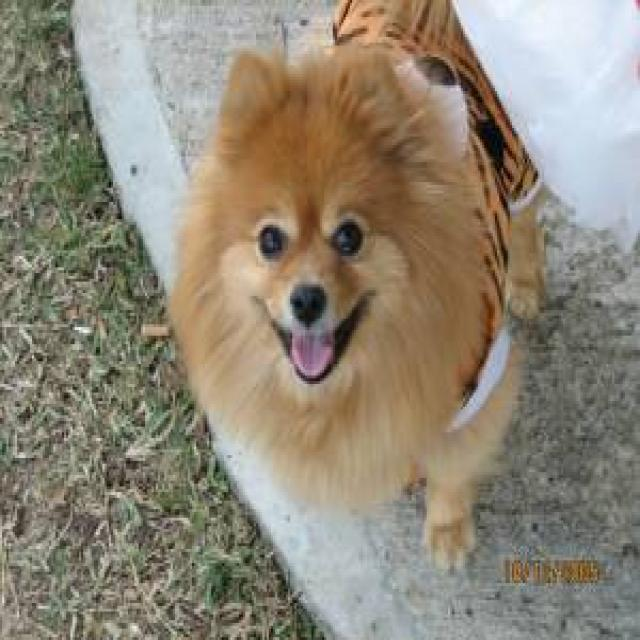dog-pomeranian: (169, 48, 521, 560)
